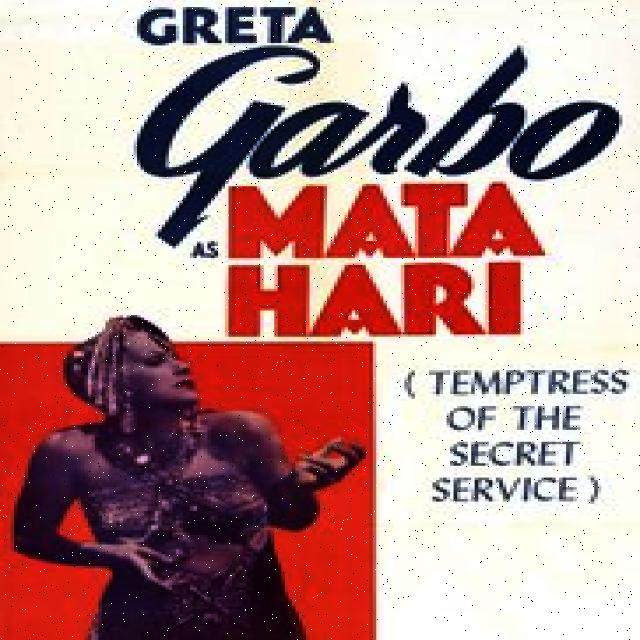movie-judul: (34, 3, 634, 341), (393, 354, 637, 516)
picture: (1, 309, 393, 640)
